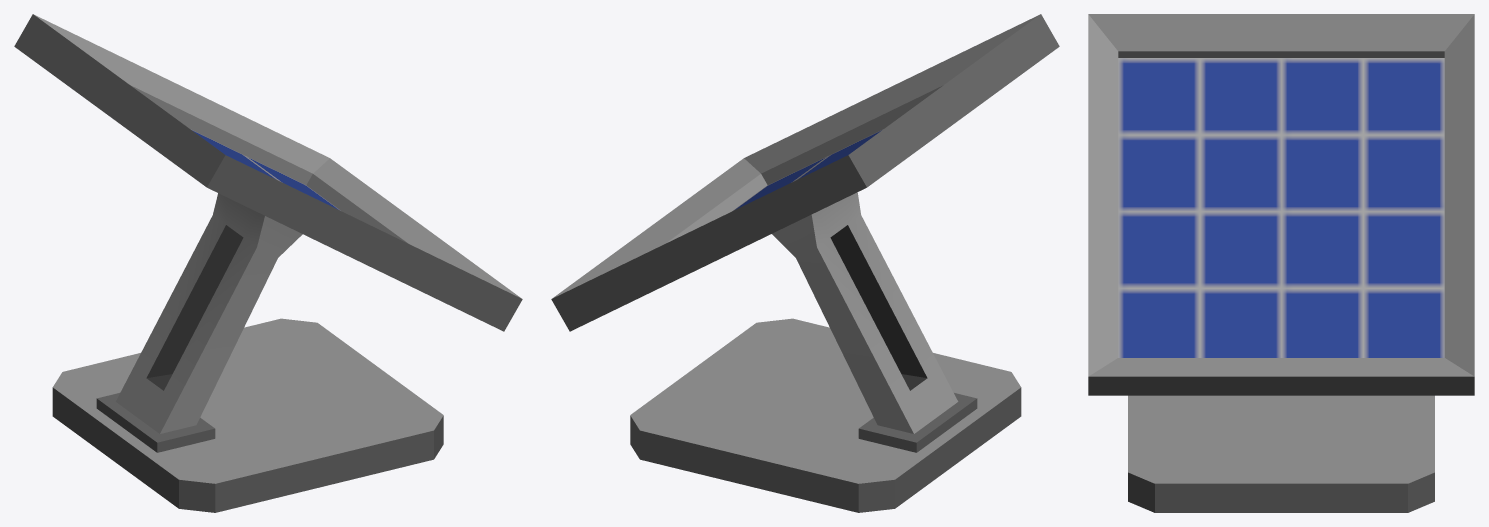
The model's file is Solar_Panel.fbx.
3 renders of one model, left to right at view 1: azimuth 30°, elevation 25°; view 2: azimuth 150°, elevation 25°; view 3: azimuth 270°, elevation 25°, orthographic.
Parts seen in each view (by area): view 1: Solar_Panel; view 2: Solar_Panel; view 3: Solar_Panel.
Boxes of the visible parts, left/top/right/bottom form: Solar_Panel: left=14, top=14, right=522, bottom=512; Solar_Panel: left=551, top=14, right=1059, bottom=512; Solar_Panel: left=1088, top=14, right=1474, bottom=512.
Bounding box in the file's own units: 161 × 183 × 170.
